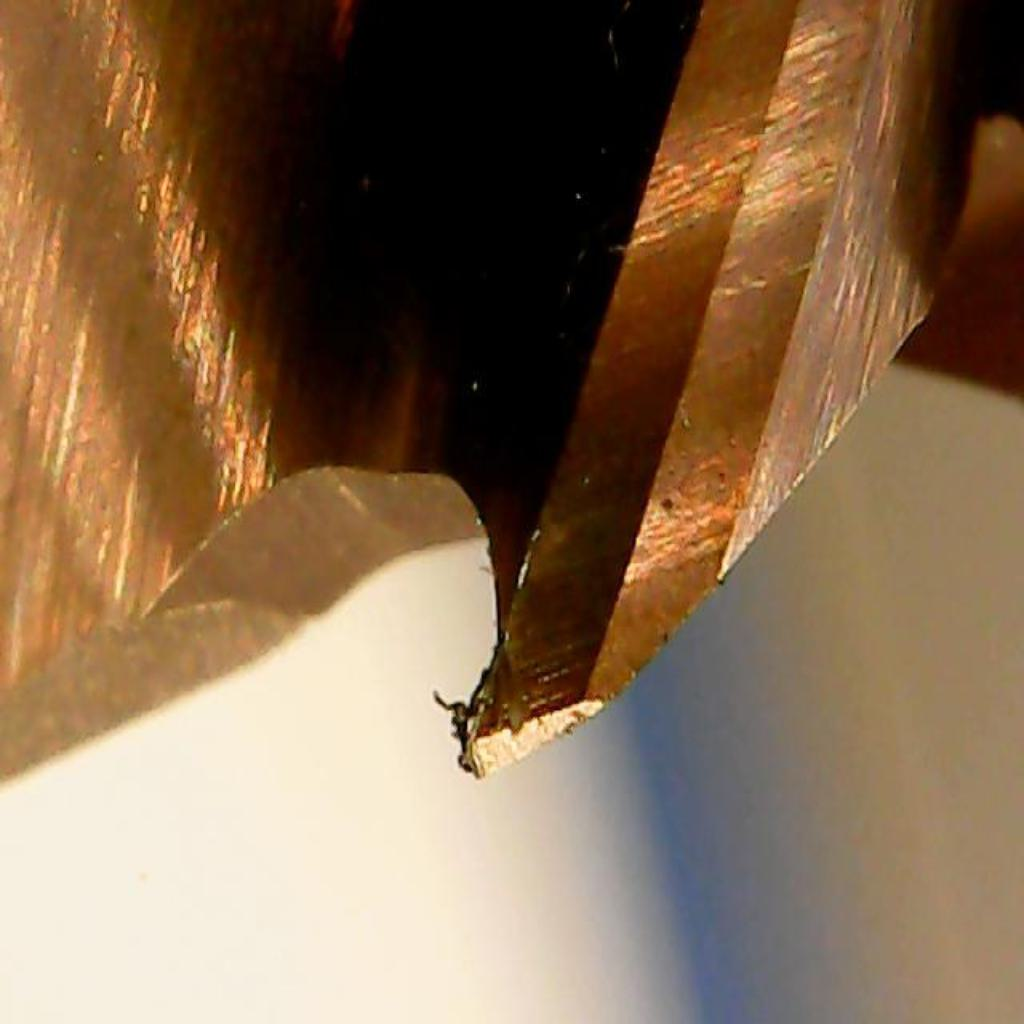Tool-wear-class-1: (410, 445, 703, 812)
